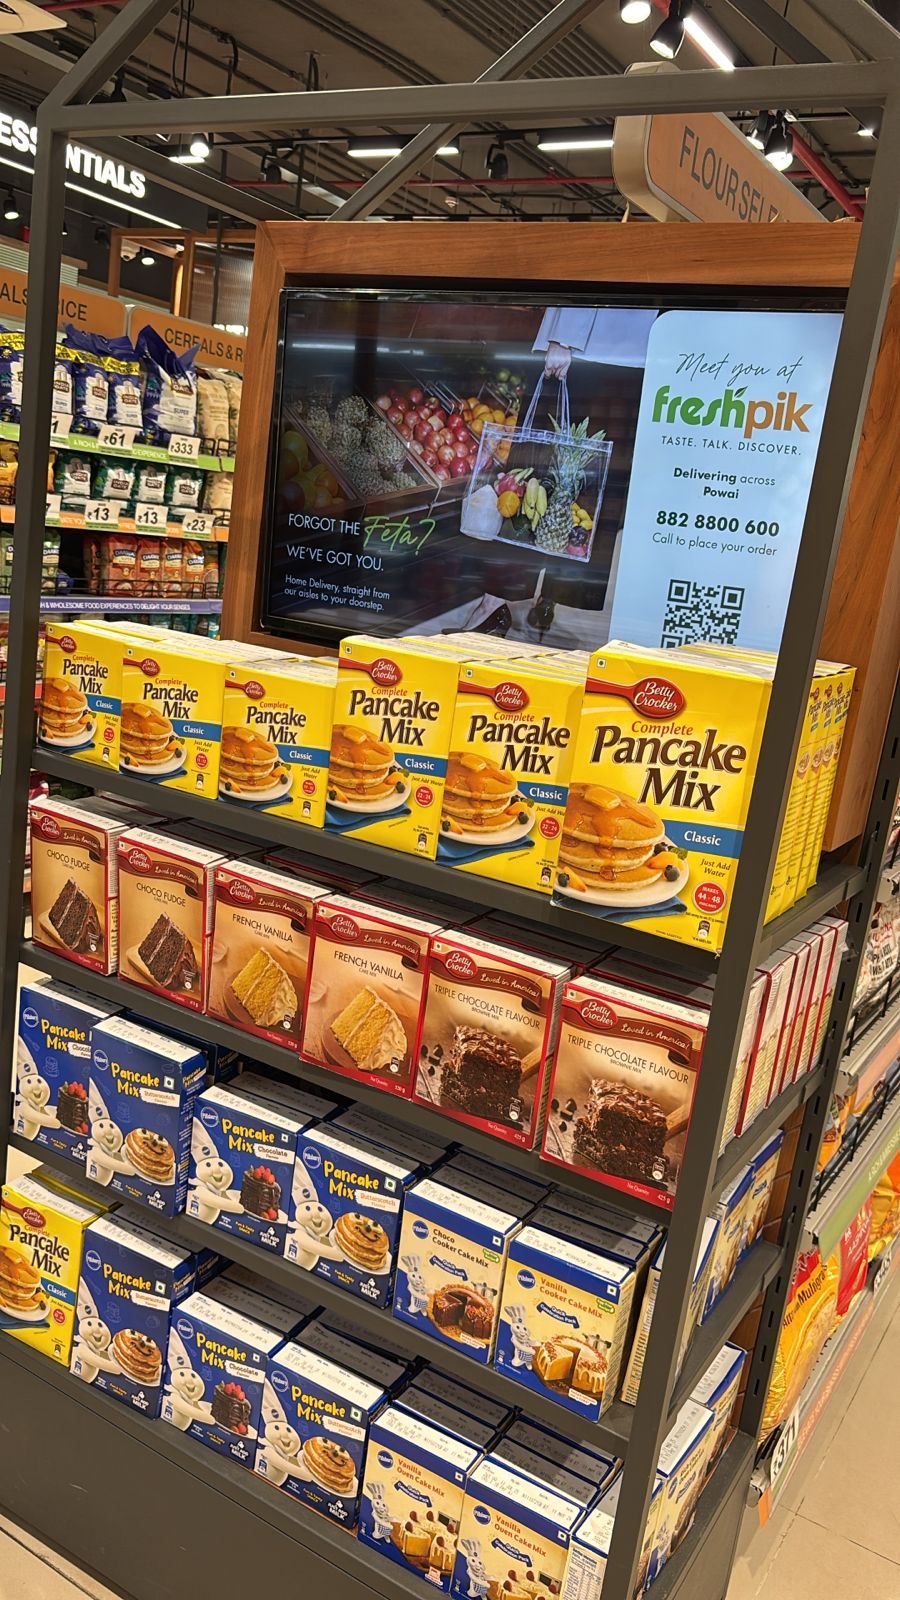Betty Crocker Pancake Mix: (564, 649, 755, 958), (452, 656, 580, 908), (325, 636, 454, 874), (221, 662, 336, 838), (114, 641, 231, 811), (41, 619, 132, 782), (0, 1176, 71, 1376)
